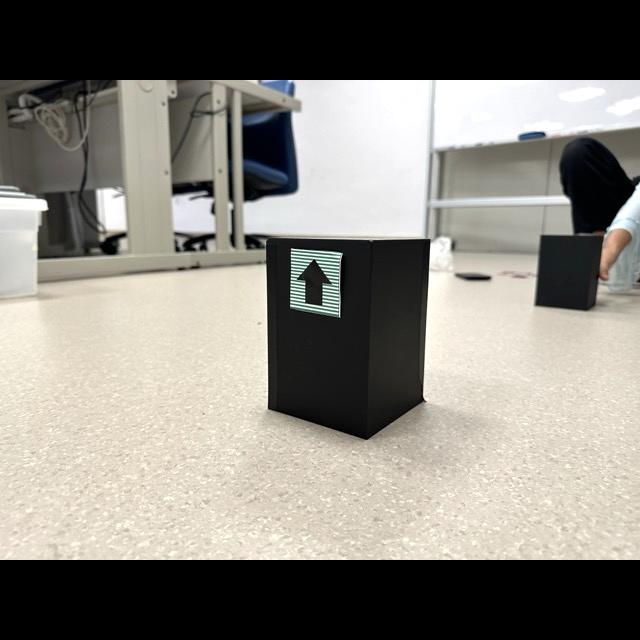UP: (296, 259, 332, 305)
